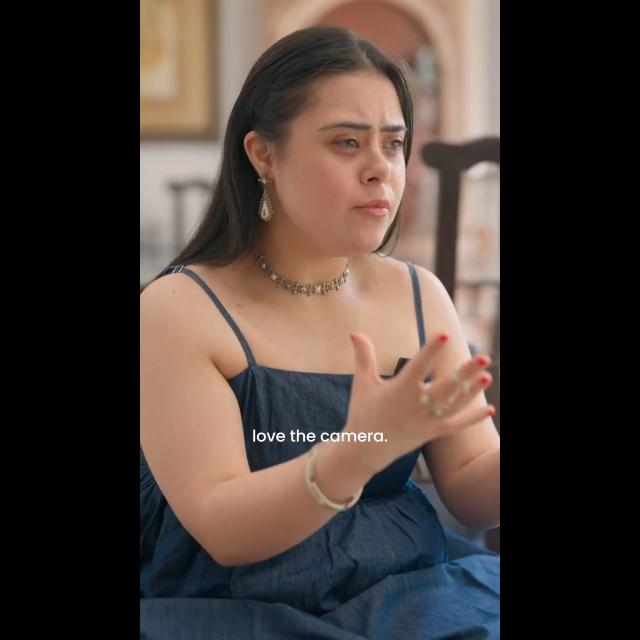dress: (150, 262, 500, 640)
ear ring: (255, 169, 283, 233)
